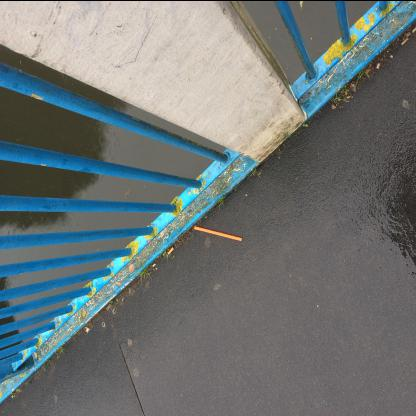plastik: (194, 224, 242, 240)
